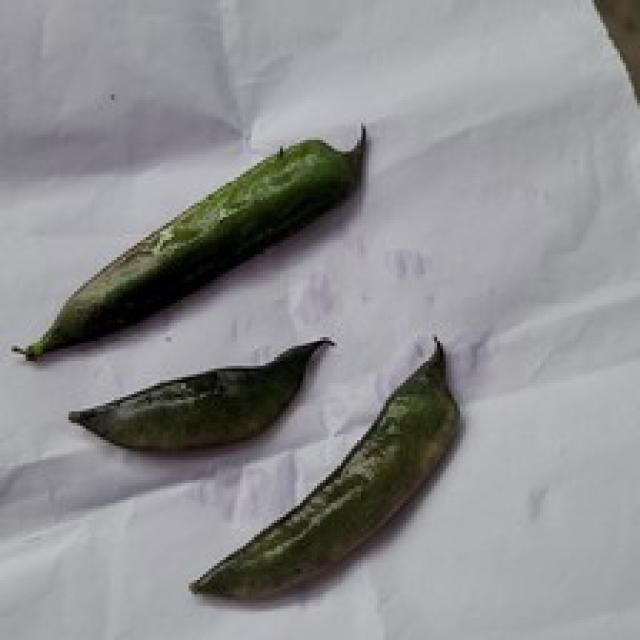organik: (15, 117, 508, 611)
